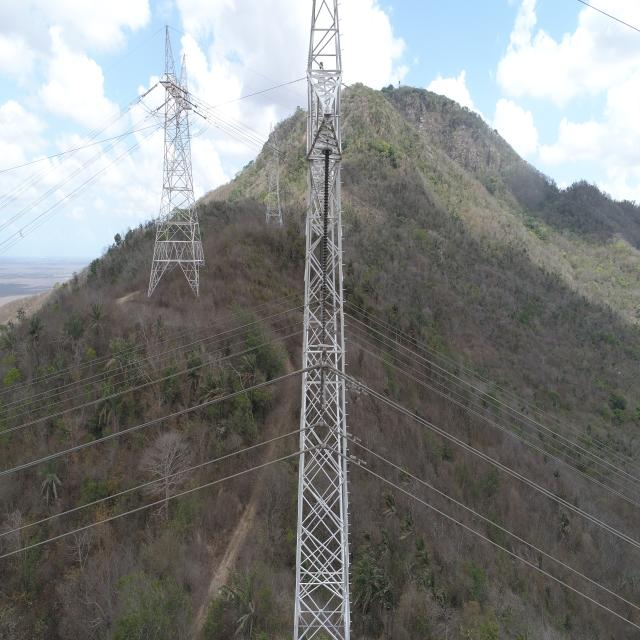杆塔: (299, 1, 356, 640), (147, 23, 205, 310), (266, 124, 287, 235)
正常电缆: (363, 431, 638, 615), (363, 463, 637, 631), (358, 319, 640, 482), (357, 335, 640, 497), (359, 327, 640, 488), (359, 311, 640, 471), (367, 348, 640, 511), (360, 307, 640, 465), (368, 386, 639, 549), (0, 423, 294, 542), (0, 369, 296, 479), (2, 452, 295, 562), (1, 329, 297, 437), (0, 321, 298, 424), (0, 306, 297, 409), (0, 313, 298, 414), (0, 292, 298, 391), (0, 297, 298, 395)
